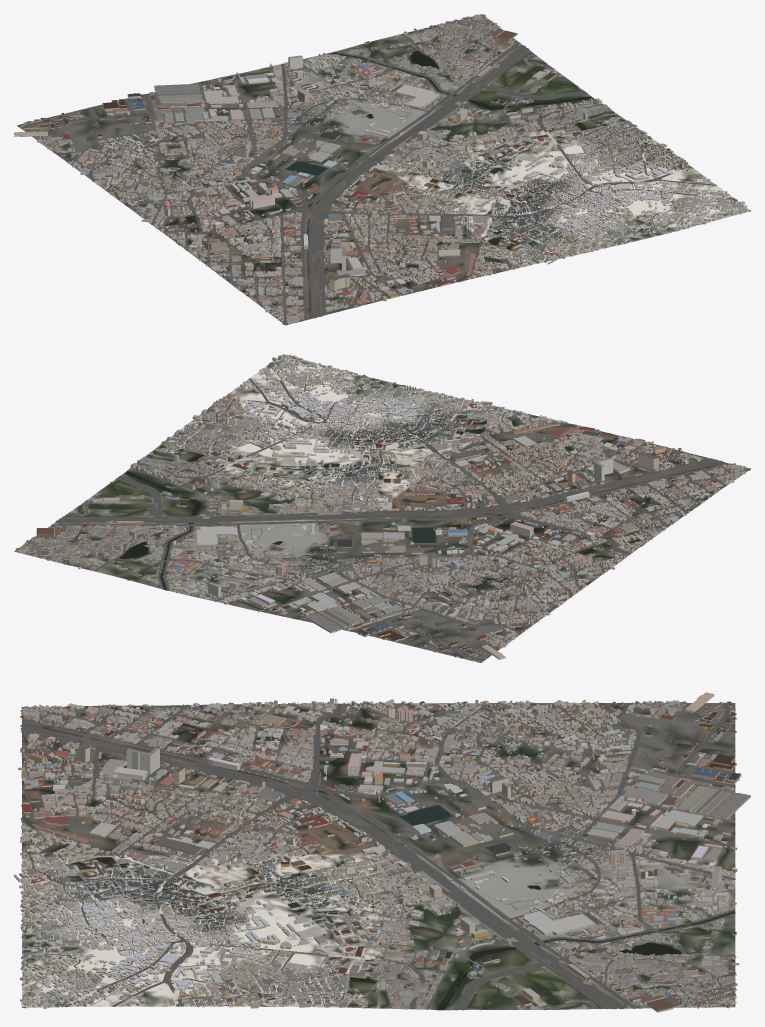
The picture shows the model from 3 angles, top to bottom: view 1: azimuth 30°, elevation 25°; view 2: azimuth 150°, elevation 25°; view 3: azimuth 270°, elevation 25°; orthographic projection. The views are drawn at different scales.
Parts seen in each view (by area): view 1: buildings, ground, roads, water; view 2: buildings, ground, roads, water; view 3: buildings, ground, roads, water.
Part boxes in pixels (box(x1,y1,x2,y2)): buildings: box(14, 14, 747, 323); ground: box(16, 14, 750, 324); roads: box(20, 20, 750, 325); water: box(286, 50, 593, 175); buildings: box(15, 354, 746, 661); ground: box(14, 355, 747, 662); roads: box(33, 354, 750, 660); water: box(119, 471, 435, 590); buildings: box(14, 692, 750, 1012); ground: box(22, 703, 735, 1010); roads: box(20, 702, 735, 1010); water: box(400, 805, 734, 1009).
Size of the model in its own units: 2918 by 105 by 2894.
